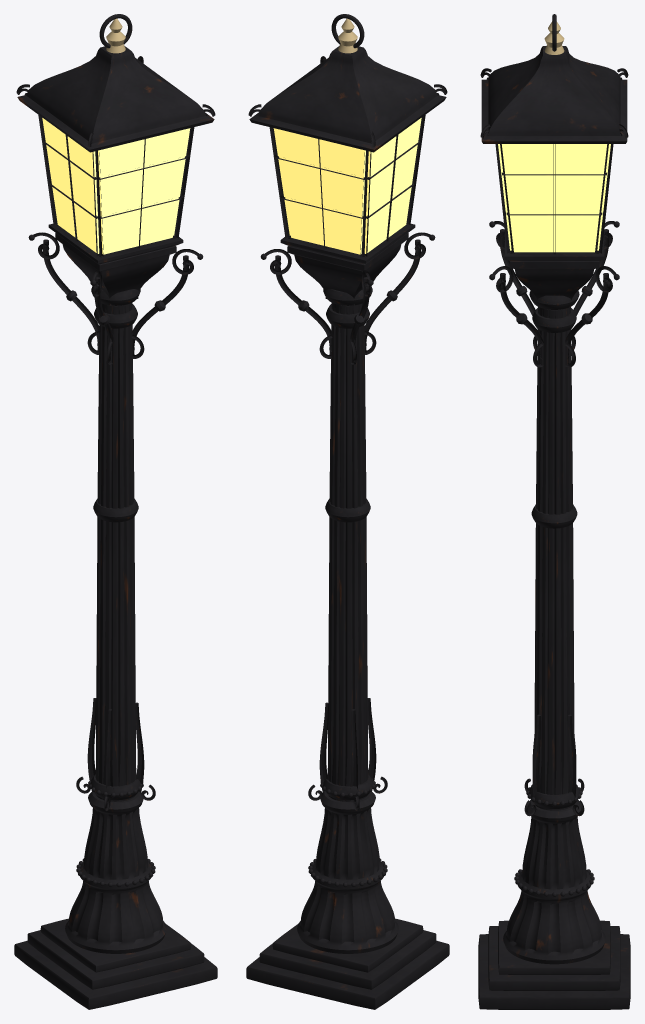
File: w3_flora_farol_post.glb
The picture shows the model from 3 angles, left to right: view 1: azimuth 30°, elevation 25°; view 2: azimuth 150°, elevation 25°; view 3: azimuth 270°, elevation 25°; orthographic projection.
Parts seen in each view (by area): view 1: w3_flora_farol_post; view 2: w3_flora_farol_post; view 3: w3_flora_farol_post.
Boxes of the visible parts, x1,y1,x2,y2 form: w3_flora_farol_post: [14, 14, 217, 1009]; w3_flora_farol_post: [246, 14, 449, 1009]; w3_flora_farol_post: [478, 14, 630, 1009].
Bounding box in the file's own units: 0.46 × 3.21 × 0.46.
3 materials, 1 textured.
